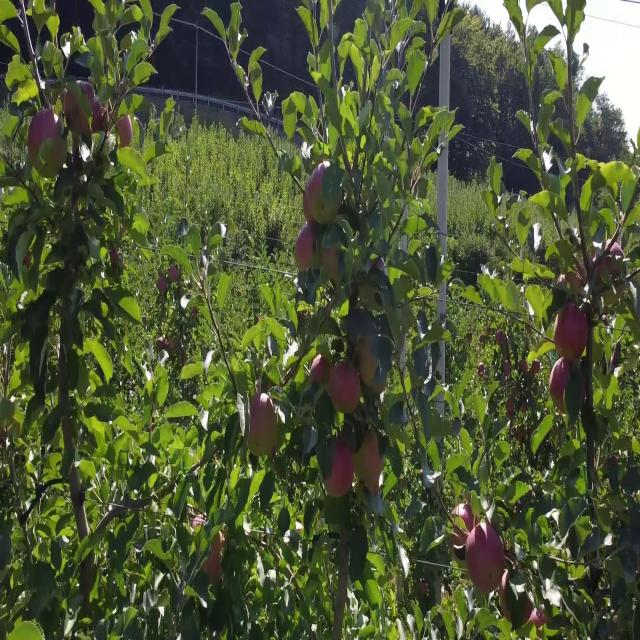apple: (464, 519, 507, 596), (28, 106, 67, 180), (308, 163, 343, 228), (248, 391, 280, 459), (556, 305, 591, 363), (328, 362, 363, 416), (324, 440, 355, 500), (356, 433, 385, 496), (64, 85, 95, 135), (200, 533, 227, 583), (452, 504, 476, 553), (356, 341, 379, 386), (600, 241, 624, 281), (296, 227, 316, 272), (552, 362, 571, 409), (500, 568, 514, 624), (564, 263, 588, 295), (500, 568, 513, 624), (88, 99, 107, 137), (296, 234, 315, 272), (528, 597, 548, 629), (116, 113, 133, 149), (324, 248, 341, 283), (312, 355, 331, 386), (508, 391, 527, 420), (168, 263, 180, 284), (156, 277, 168, 295), (112, 248, 120, 267), (504, 362, 512, 377)
